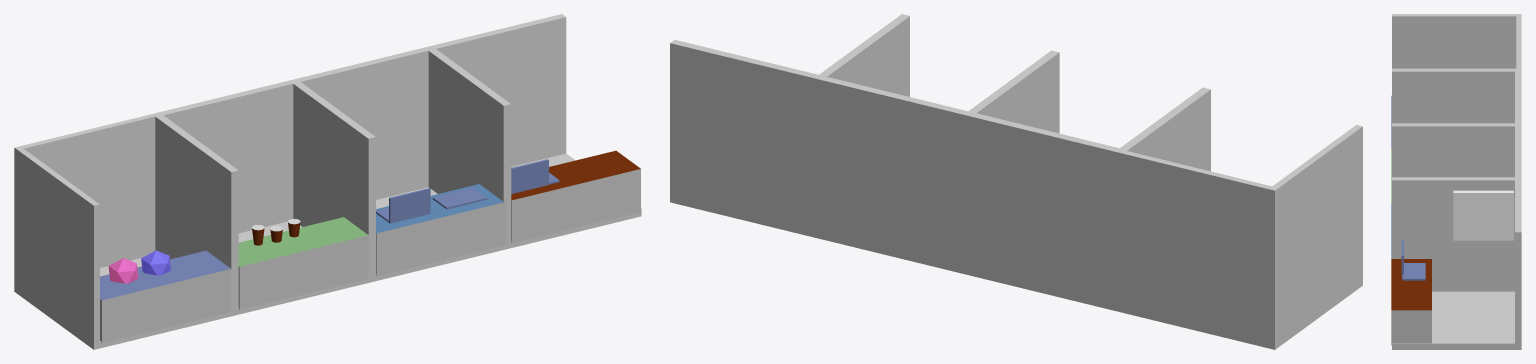
The model's file is mockupStands.glb.
3 views of the same model, side by side, from view 1: azimuth 30°, elevation 25°; view 2: azimuth 150°, elevation 25°; view 3: azimuth 270°, elevation 25° (orthographic). The views are drawn at different scales.
Visible parts, largest first — view 1: Stand4, Stand1, Stand3, Stand2, Cube.039, Cube.037, Cube.043, Cube.041, Cube.057, Cube.053, Cube.056, Icosphere (+1 smaller); view 2: Stand4, Stand3, Stand2, Stand1; view 3: Stand1, Stand3, Stand2, Stand4, Cube.059, Cube.043, Cube.054.
Boxes of the visible parts, <box> form: Stand4: <box>14,114,231,349</box>; Stand1: <box>424,14,641,249</box>; Stand3: <box>152,80,368,316</box>; Stand2: <box>290,47,503,282</box>; Cube.039: <box>238,217,368,309</box>; Cube.037: <box>100,250,231,343</box>; Cube.043: <box>511,150,640,243</box>; Cube.041: <box>376,184,505,276</box>; Cube.057: <box>389,188,430,223</box>; Cube.053: <box>511,159,548,193</box>; Cube.056: <box>432,187,487,209</box>; Icosphere: <box>108,258,138,283</box>; Stand4: <box>1123,125,1362,349</box>; Stand3: <box>971,87,1210,312</box>; Stand2: <box>819,50,1059,275</box>; Stand1: <box>670,14,909,238</box>; Stand1: <box>1392,177,1521,349</box>; Stand3: <box>1392,68,1521,123</box>; Stand2: <box>1392,123,1521,177</box>; Stand4: <box>1392,14,1521,68</box>; Cube.059: <box>1453,190,1513,240</box>; Cube.043: <box>1391,259,1431,345</box>; Cube.054: <box>1402,263,1425,280</box>.
Size of the model in its own units: 3.71 by 0.933 by 0.9383.
